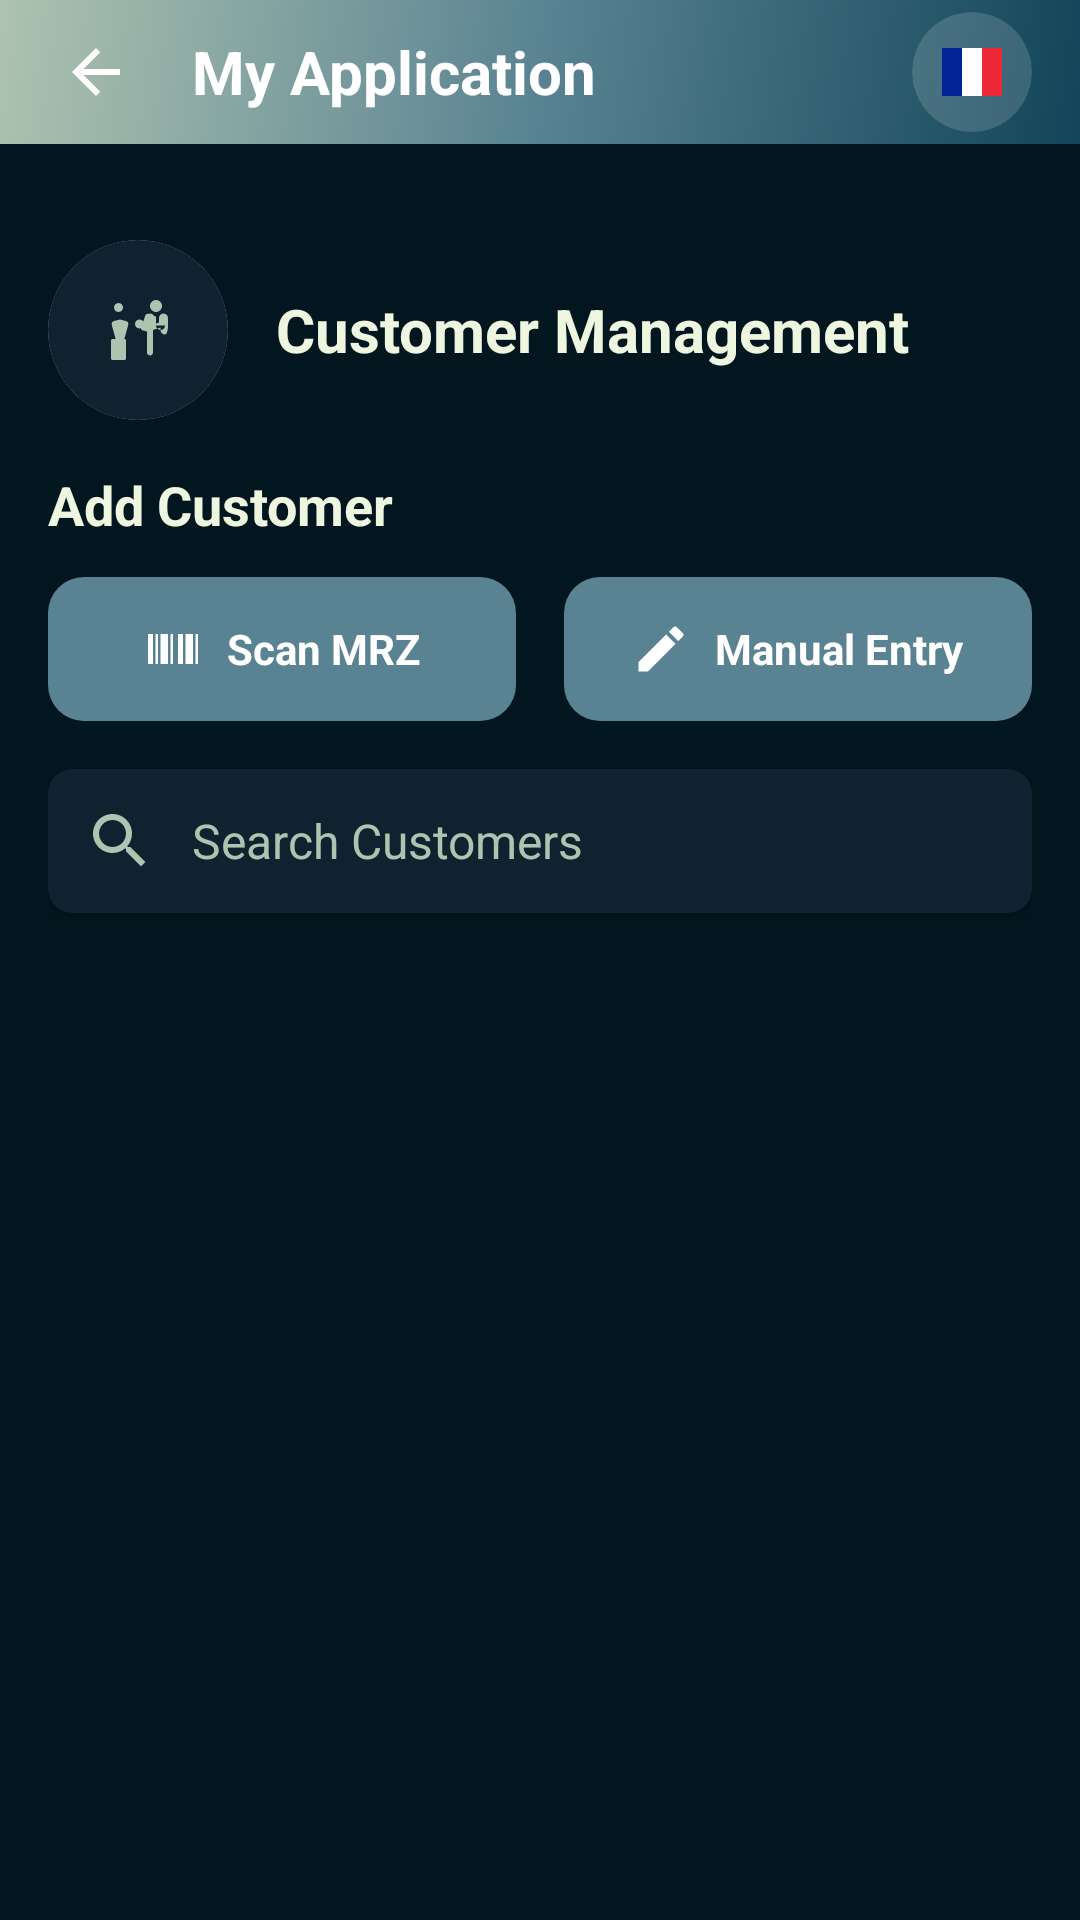

Icon click points for this 1080 x 1920 phone screenshot, format (x=x, y=y):
back: (x=96, y=72)
edit note: (x=661, y=649)
flag fr: (x=972, y=72)
